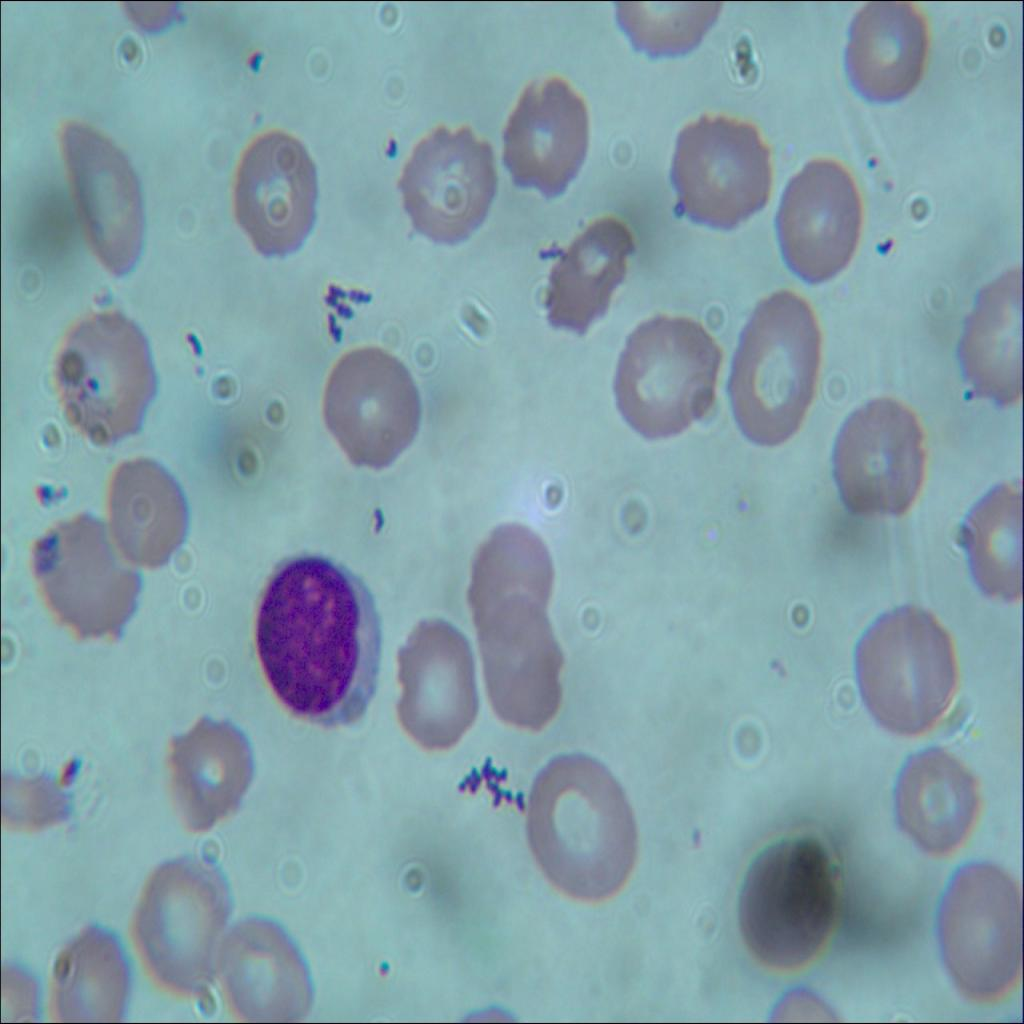Eritrosit: (604, 302, 723, 451), (722, 288, 828, 451), (38, 312, 161, 445), (526, 748, 634, 899), (28, 506, 146, 641), (854, 585, 958, 734), (533, 200, 635, 348), (53, 116, 146, 278), (126, 848, 226, 994), (928, 851, 1023, 1002), (734, 840, 838, 972), (229, 118, 326, 257), (386, 612, 482, 751), (670, 112, 773, 238), (478, 588, 566, 734), (826, 392, 923, 522), (159, 708, 253, 838), (772, 152, 862, 286), (398, 128, 500, 245), (209, 908, 309, 1023), (329, 346, 419, 472), (462, 515, 550, 641), (98, 448, 192, 562), (886, 746, 978, 856), (503, 78, 584, 198), (46, 912, 132, 1023), (838, 1, 932, 102), (954, 269, 1023, 405), (964, 487, 1023, 592)
Limfoblast: (258, 547, 382, 732)
Platelet: (368, 948, 398, 992), (383, 126, 414, 162), (359, 500, 386, 534), (241, 48, 269, 78), (958, 376, 978, 417), (862, 144, 882, 172), (875, 232, 896, 258), (880, 168, 898, 198)
